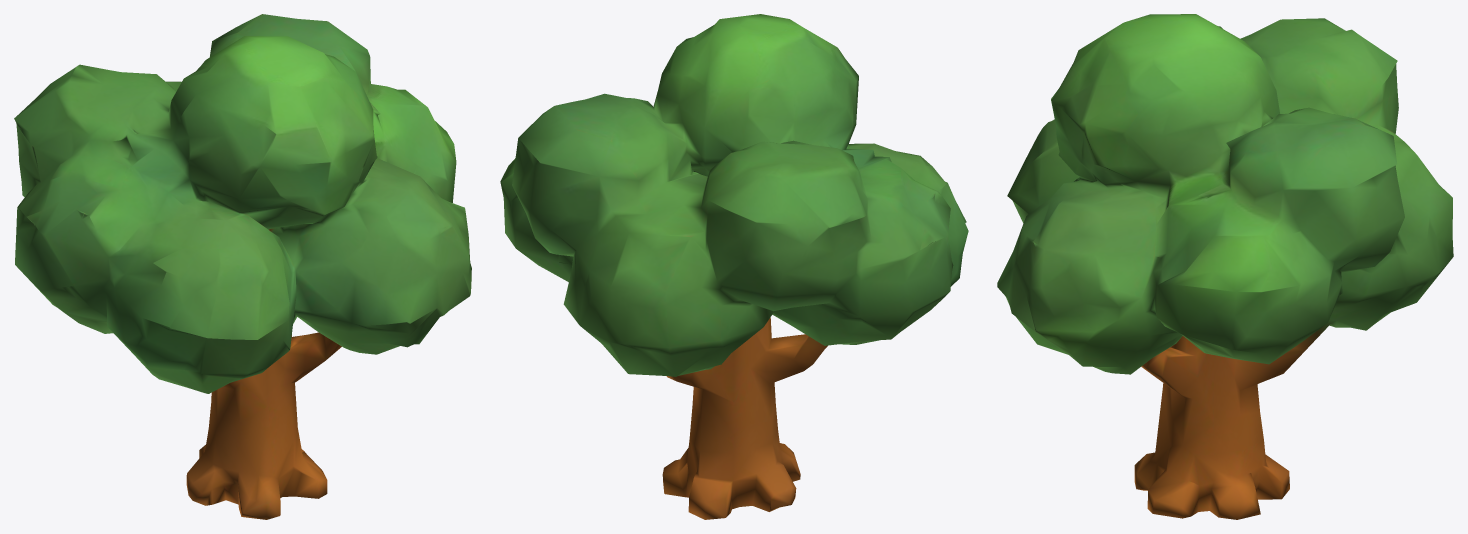
File: tree.glb
3 views of the same model, side by side, from view 1: azimuth 30°, elevation 25°; view 2: azimuth 150°, elevation 25°; view 3: azimuth 270°, elevation 25° (orthographic). The views are drawn at different scales.
Visible parts, largest first — view 1: tripo_node_34c71359-9545-4471-870b-c30f6d97d181; view 2: tripo_node_34c71359-9545-4471-870b-c30f6d97d181; view 3: tripo_node_34c71359-9545-4471-870b-c30f6d97d181.
Part boxes in pixels (<box>): tripo_node_34c71359-9545-4471-870b-c30f6d97d181: <box>14,14,471,519</box>; tripo_node_34c71359-9545-4471-870b-c30f6d97d181: <box>500,14,968,519</box>; tripo_node_34c71359-9545-4471-870b-c30f6d97d181: <box>997,14,1453,519</box>.
Bounding box in the file's own units: 0.9505 × 0.9794 × 0.8619.
Materials: 1 (1 with a texture image).
